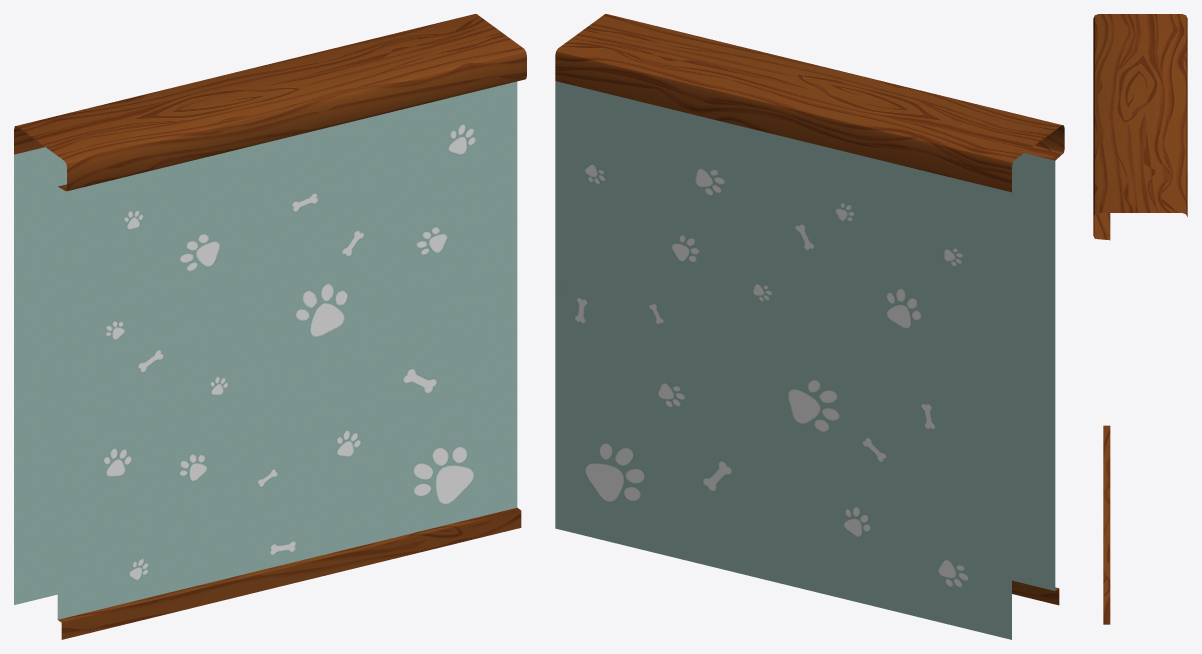
The model's file is SM_Env_Wall.fbx.
The picture shows the model from 3 angles, left to right: view 1: azimuth 30°, elevation 25°; view 2: azimuth 150°, elevation 25°; view 3: azimuth 270°, elevation 25°; orthographic projection. The views are drawn at different scales.
Parts seen in each view (by area): view 1: SM_Env_Wall; view 2: SM_Env_Wall; view 3: SM_Env_Wall.
Boxes of the visible parts, x1=… form: SM_Env_Wall: x1=14, y1=14, x2=526, y2=639; SM_Env_Wall: x1=555, y1=14, x2=1064, y2=639; SM_Env_Wall: x1=1093, y1=14, x2=1187, y2=624.
Size of the model in its own units: 2.5 by 2.5 by 0.5.
